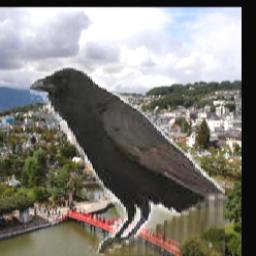Crow: (31, 63, 226, 255)
